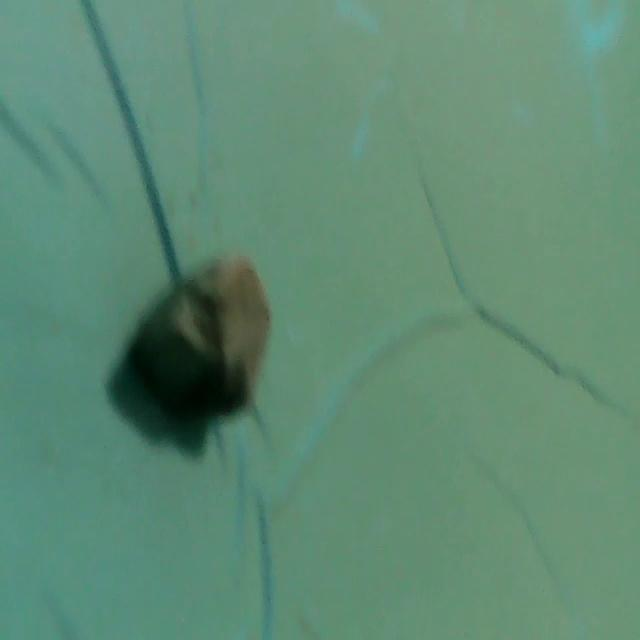rock: (123, 246, 286, 444)
